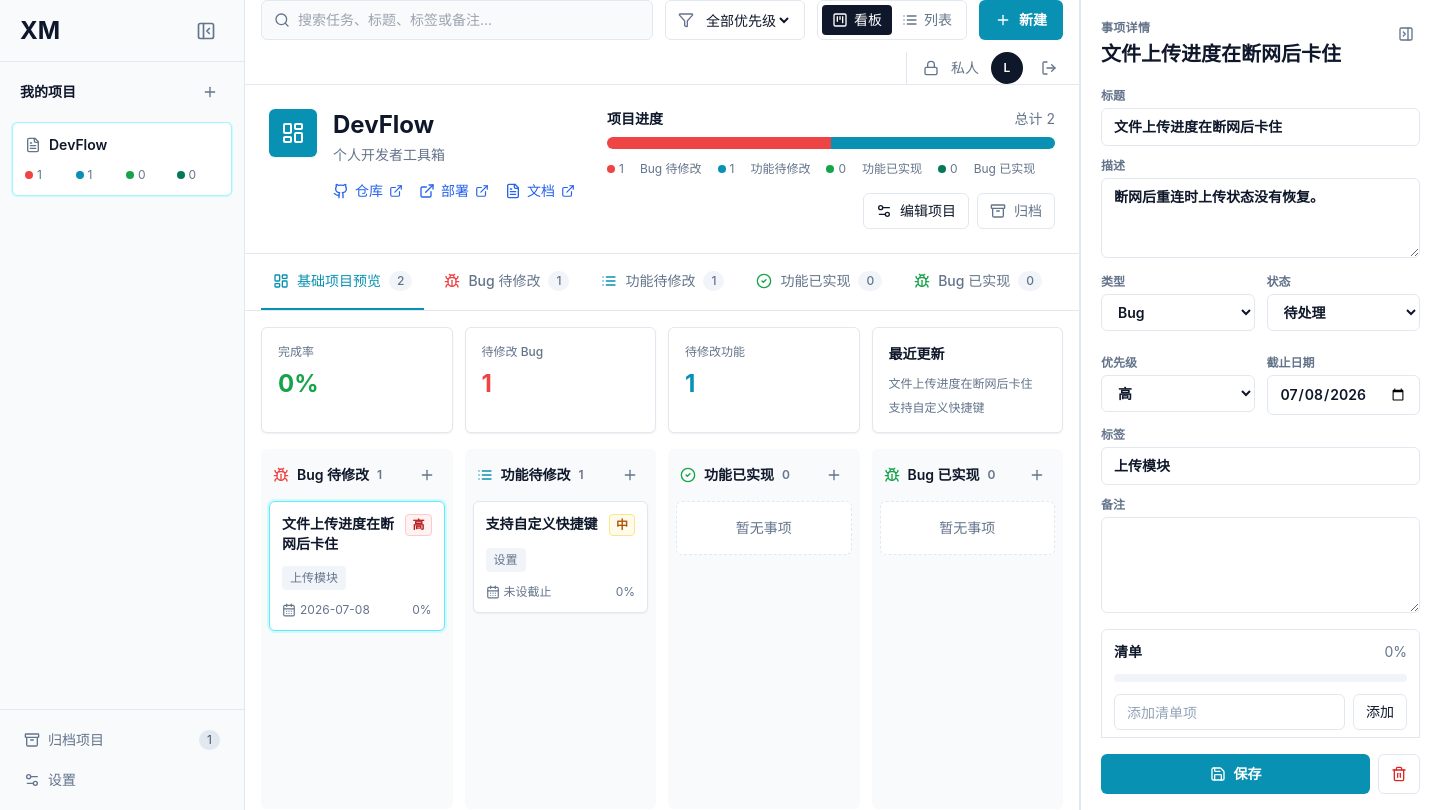
Scenario: App › toggles the sidebar, detail panel, and layout settings
Expected: the heading "DevFlow" is shown, 333,110 -> 434,139
What coordinates should you click on to do the following:
click the button named "收起侧边栏"
I would click on:
 (206, 30)
Its box is 188,12 -> 224,48.
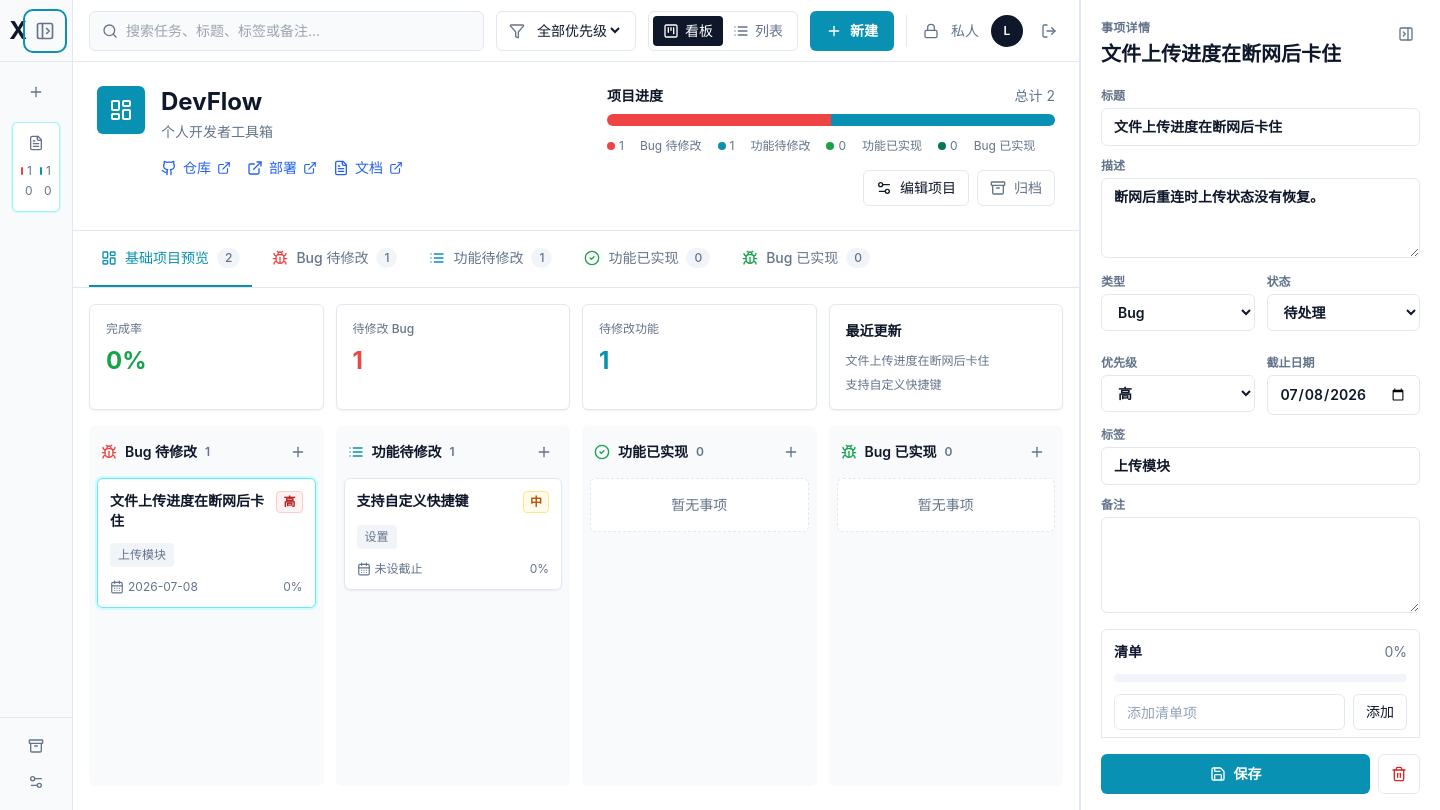
Now the button named "展开侧边栏" is shown, box 27,12 -> 63,48
What coordinates should you click on to do the following:
click the button named "收起事项详情"
I would click on:
 (1406, 34)
Its box is 1392,20 -> 1420,48.
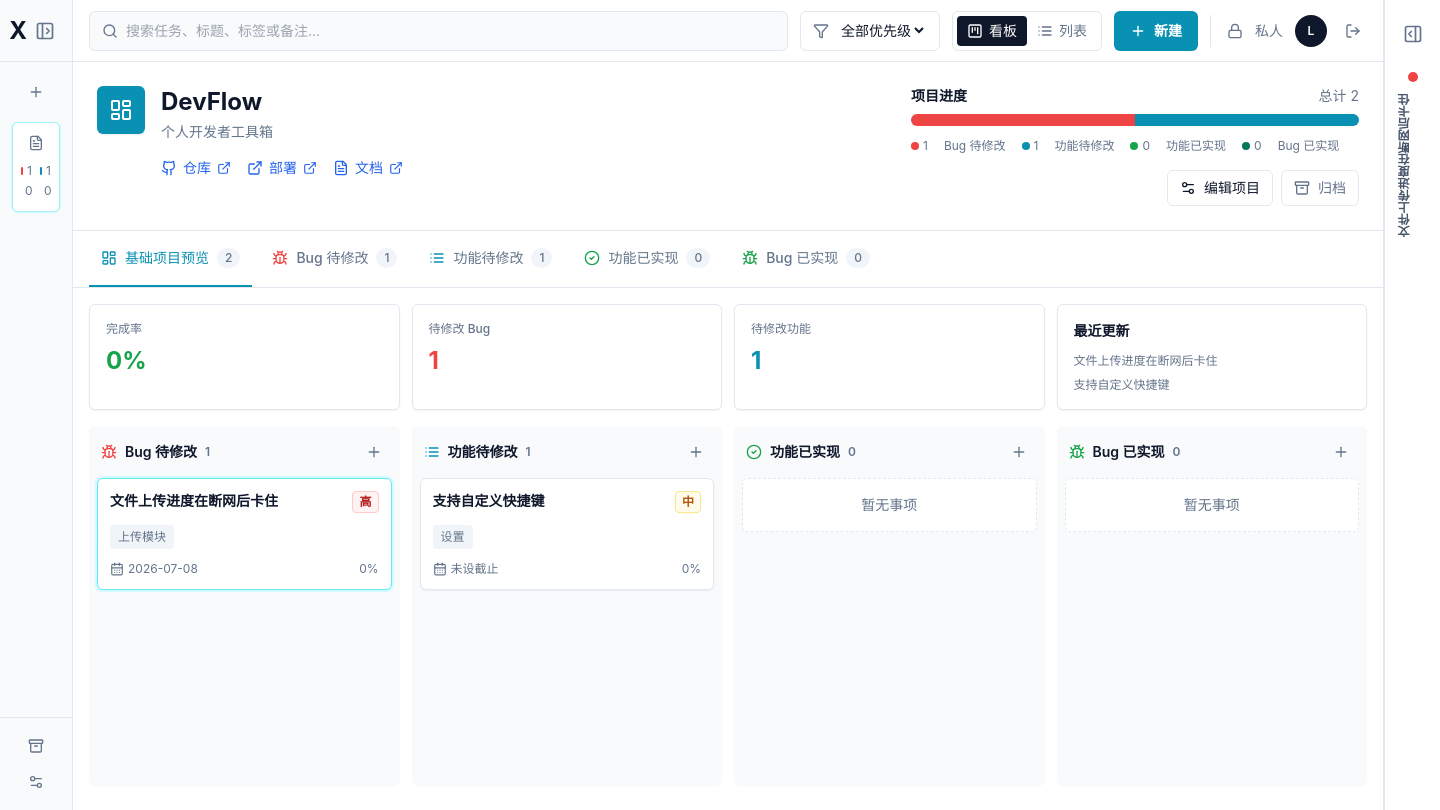
Now the button named "展开事项详情" is shown, box 1394,16 -> 1430,52
What coordinates should you click on to do the following:
click the button named "设置"
I would click on:
 (36, 782)
Its box is 12,766 -> 60,798.
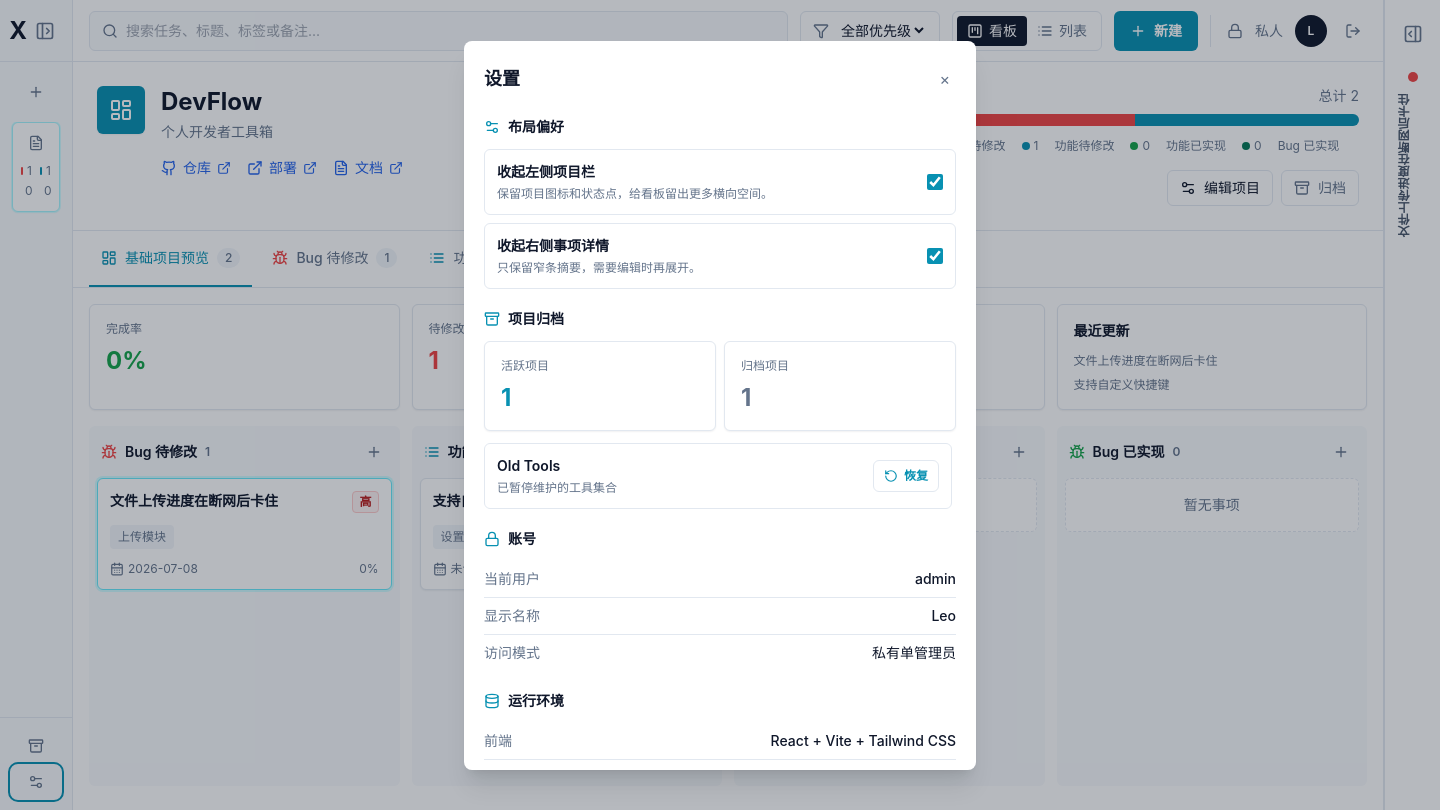
Now the checkbox labelled "收起左侧项目栏" is checked, box 927,174 -> 943,190
Now the checkbox labelled "收起右侧事项详情" is checked, box 927,248 -> 943,264
